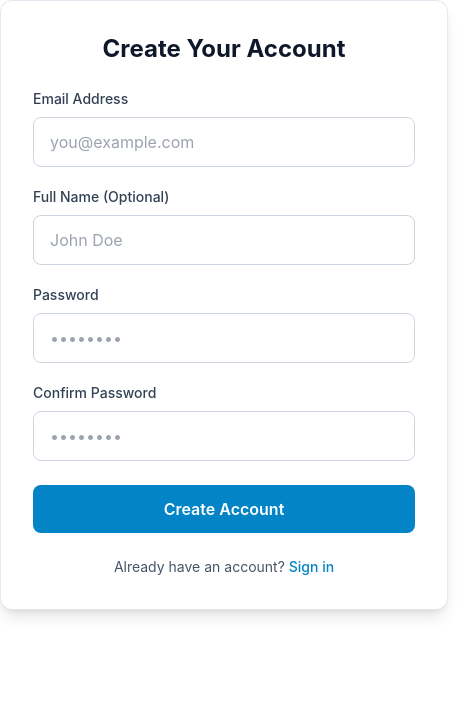
Test: RegisterForm Component › Form Validation › should clear error when user types in field
Click the button "Create Account" at [224, 509], box [33,485,415,533]
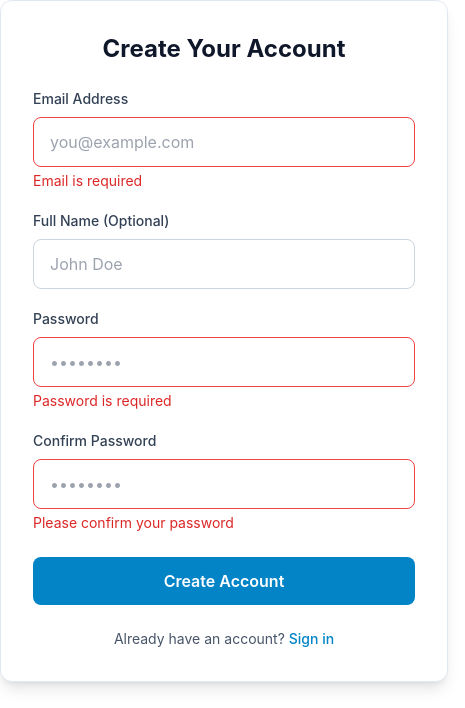
Now the text "Email is required" is shown, box [33,172,142,189]
Type "test@example.com" into the field labelled "Email Address" at [224, 142], box [33,117,415,167]
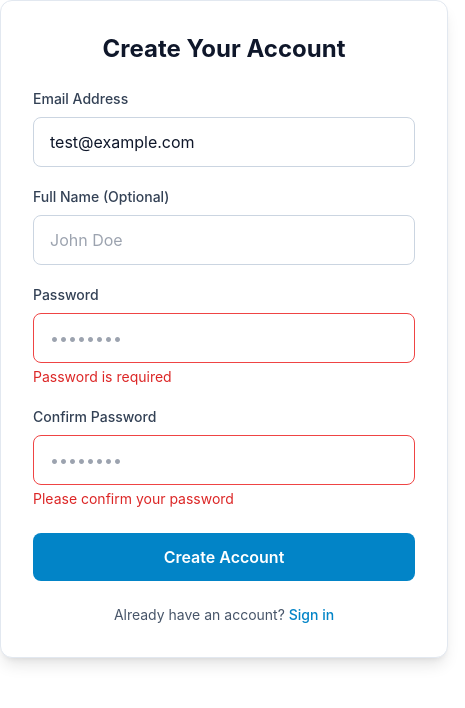
Now the text "Email is required" is gone
